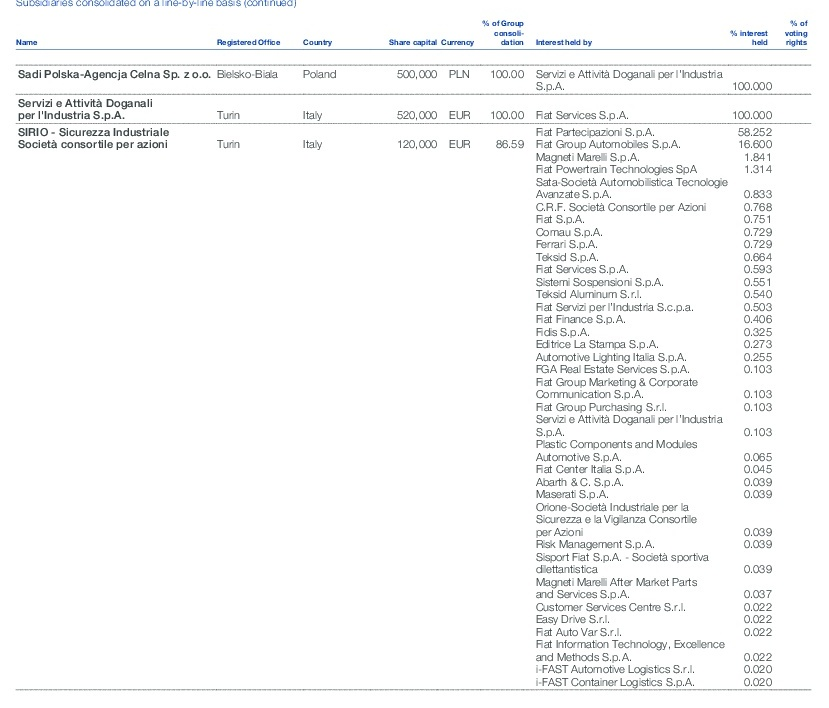table: (0, 0, 829, 708)
